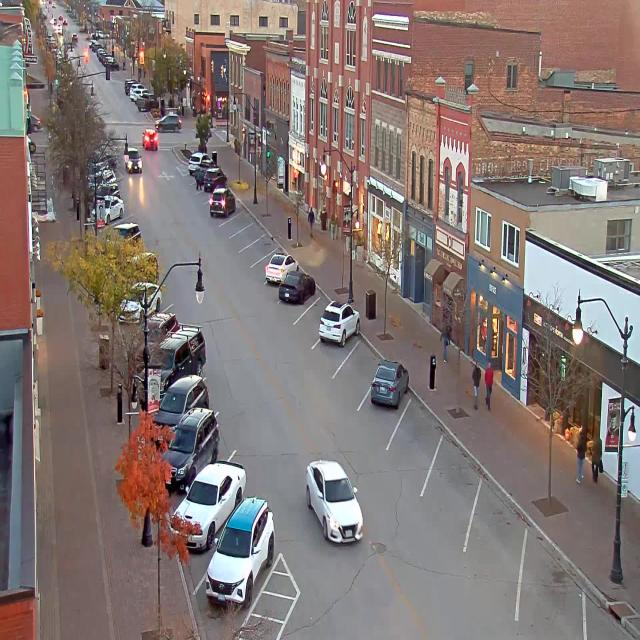available: (511, 534, 589, 639), (464, 490, 524, 566), (388, 390, 445, 469), (421, 440, 482, 510), (578, 588, 638, 640), (340, 335, 381, 393), (298, 290, 329, 333), (244, 228, 270, 262), (232, 219, 256, 249), (229, 200, 252, 231)
occupied: (171, 460, 246, 552), (208, 499, 276, 595), (150, 374, 209, 446), (173, 411, 225, 470), (161, 319, 212, 373), (318, 299, 360, 346), (370, 358, 408, 408), (278, 269, 316, 304), (208, 186, 236, 218), (265, 253, 286, 284), (187, 150, 209, 175), (204, 166, 222, 190), (196, 158, 207, 185)
